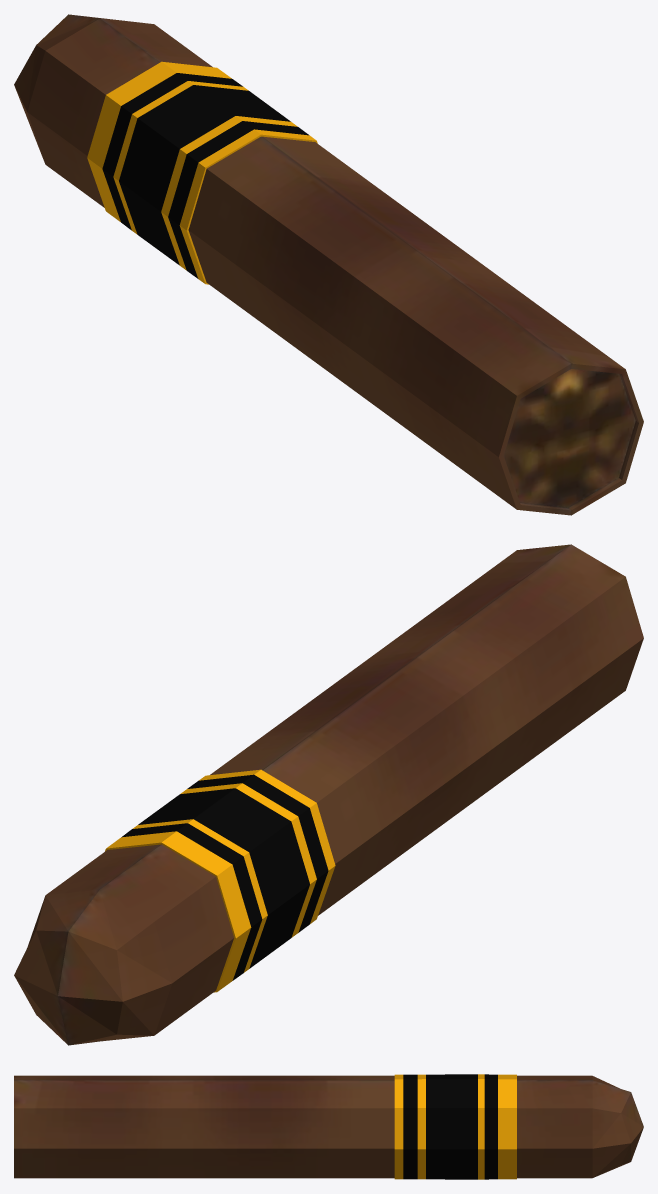
The model's file is pp.cigar_ct7a.glb.
The picture shows the model from 3 angles, top to bottom: view 1: azimuth 30°, elevation 25°; view 2: azimuth 150°, elevation 25°; view 3: azimuth 270°, elevation 25°; orthographic projection. The views are drawn at different scales.
Parts seen in each view (by area): view 1: cigar_ct7a; view 2: cigar_ct7a; view 3: cigar_ct7a.
Boxes of the visible parts, <box> form: cigar_ct7a: <box>14,14,643,515</box>; cigar_ct7a: <box>14,544,643,1045</box>; cigar_ct7a: <box>14,1074,643,1179</box>.
Bounding box in the file's own units: 0.0251 × 0.0251 × 0.15.
Materials: 3 (1 with a texture image).
